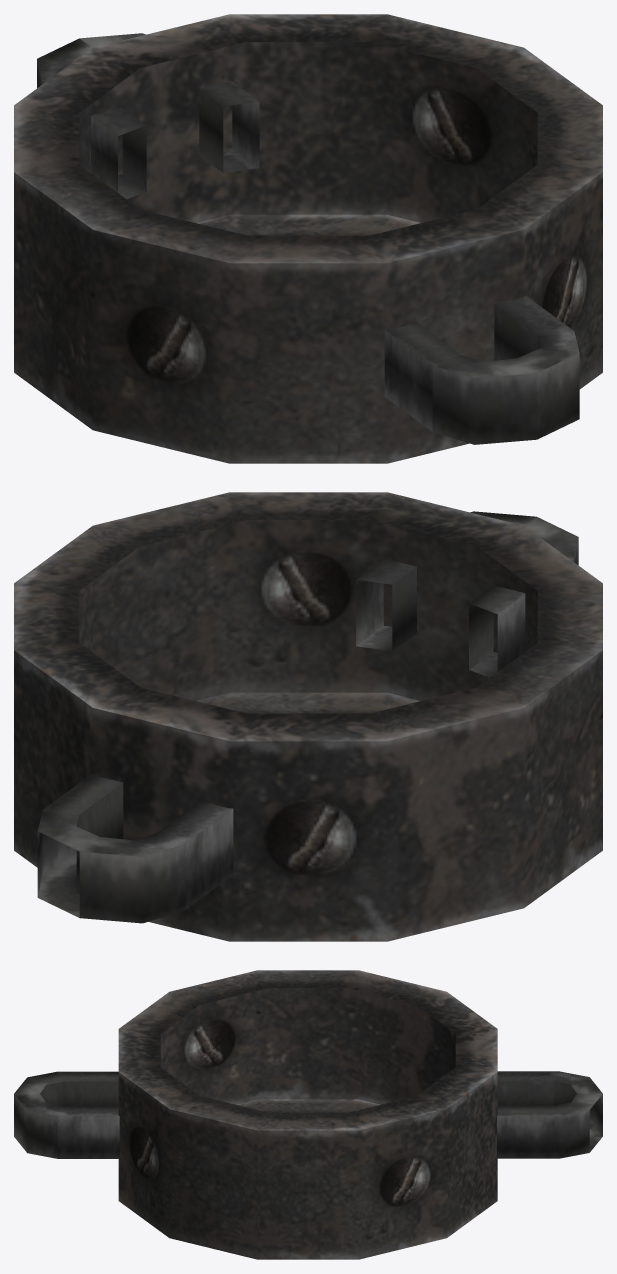
The model's file is Mast Brace 2.fbx.
The picture shows the model from 3 angles, top to bottom: view 1: azimuth 30°, elevation 25°; view 2: azimuth 150°, elevation 25°; view 3: azimuth 270°, elevation 25°; orthographic projection. The views are drawn at different scales.
Visible parts, largest first — view 1: mast brace001; view 2: mast brace001; view 3: mast brace001.
Boxes of the visible parts, left/top/right/bottom form: mast brace001: left=14, top=14, right=602, bottom=463; mast brace001: left=14, top=492, right=602, bottom=941; mast brace001: left=14, top=970, right=602, bottom=1259.
Bounding box in the file's own units: 40.89 × 63.51 × 15.36.
Materials: 1 (1 with a texture image).
